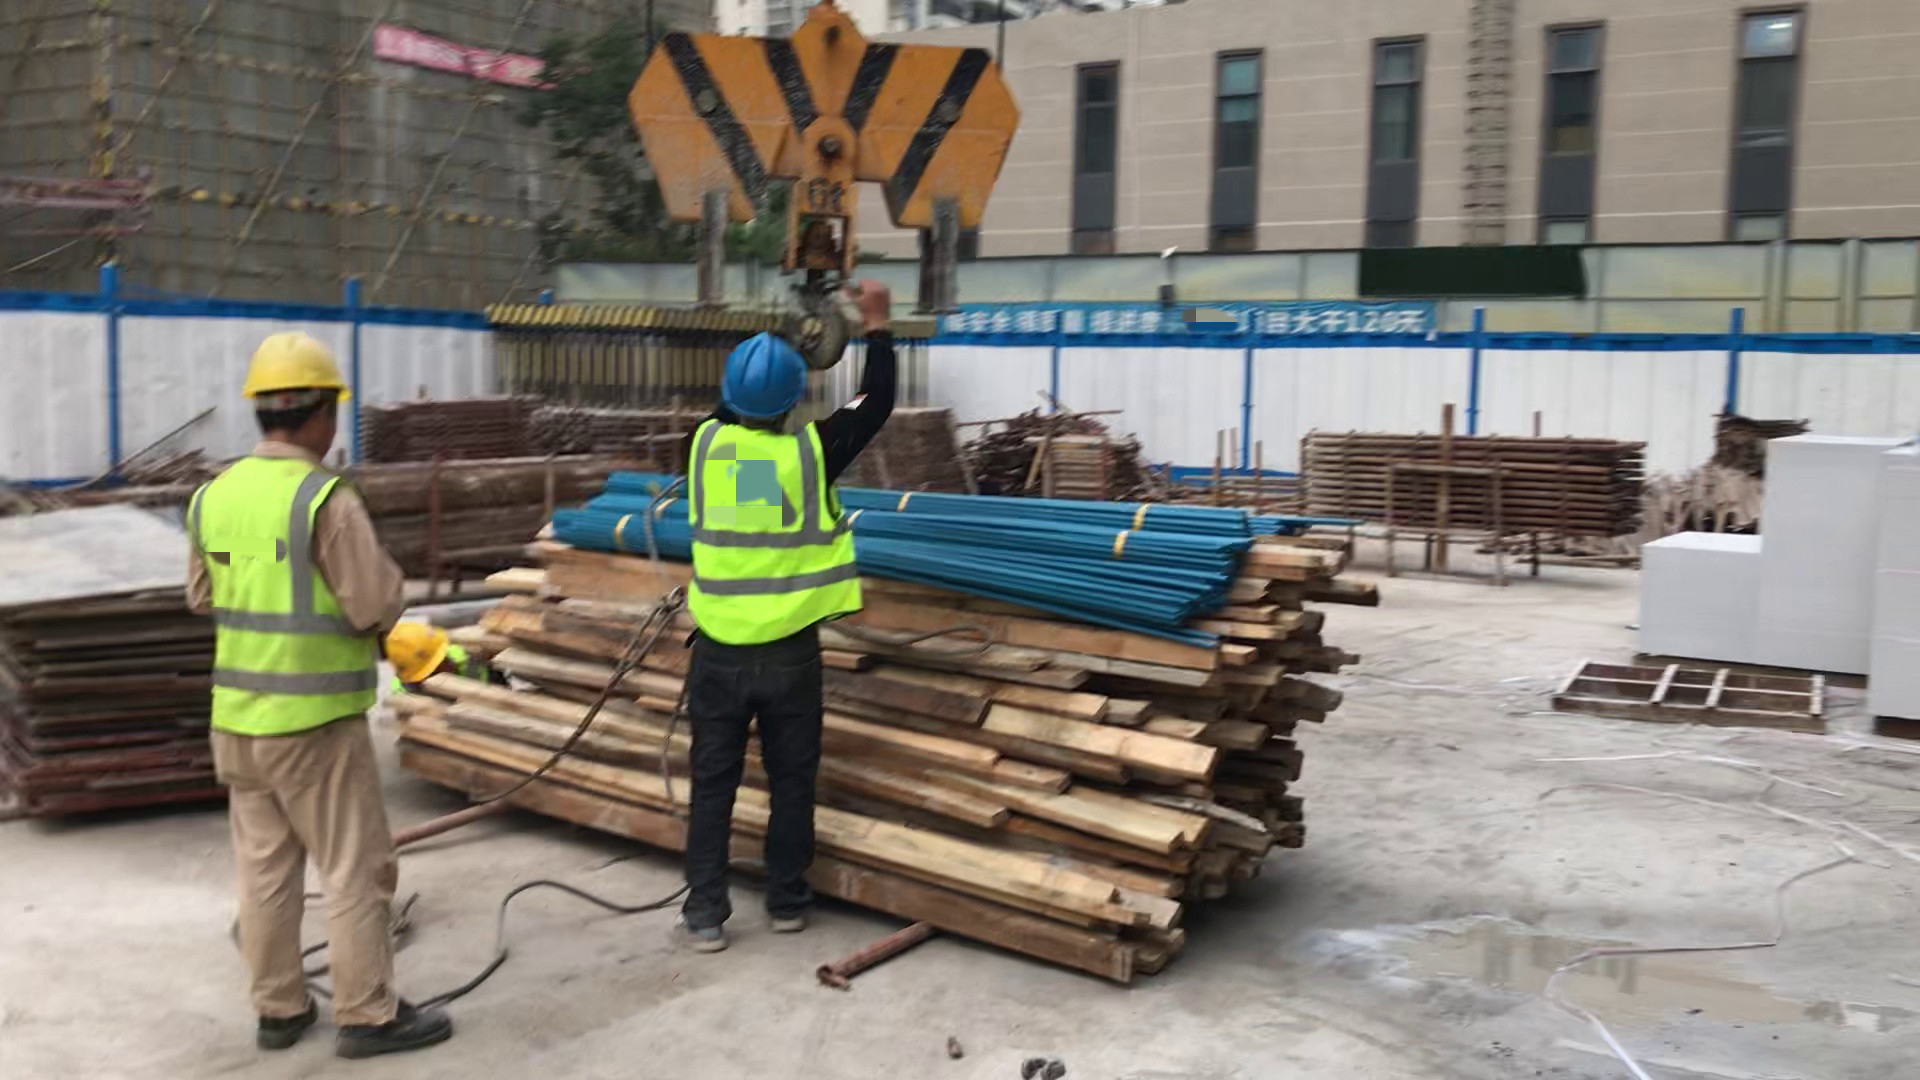board: (1, 479, 273, 841)
brick: (1629, 434, 1874, 674), (1860, 420, 1920, 724)
helmet: (721, 334, 807, 419), (244, 328, 354, 393)
hook: (617, 18, 1020, 308)
person: (177, 327, 462, 1056), (662, 331, 856, 957)
scaffold: (1295, 427, 1644, 549), (344, 386, 534, 464), (530, 387, 697, 461)
slogan: (937, 304, 1168, 342)
vest: (184, 445, 396, 731), (677, 406, 856, 650)
wood: (387, 548, 1382, 976)
